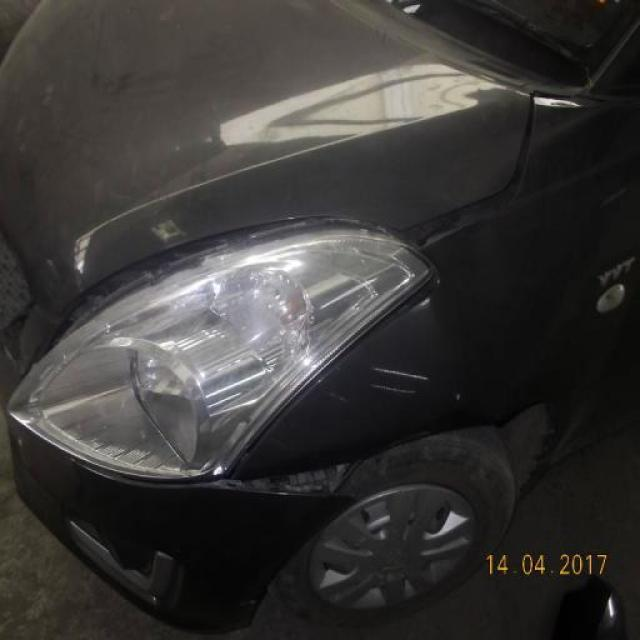car damage: (230, 451, 358, 504), (370, 365, 433, 398)
